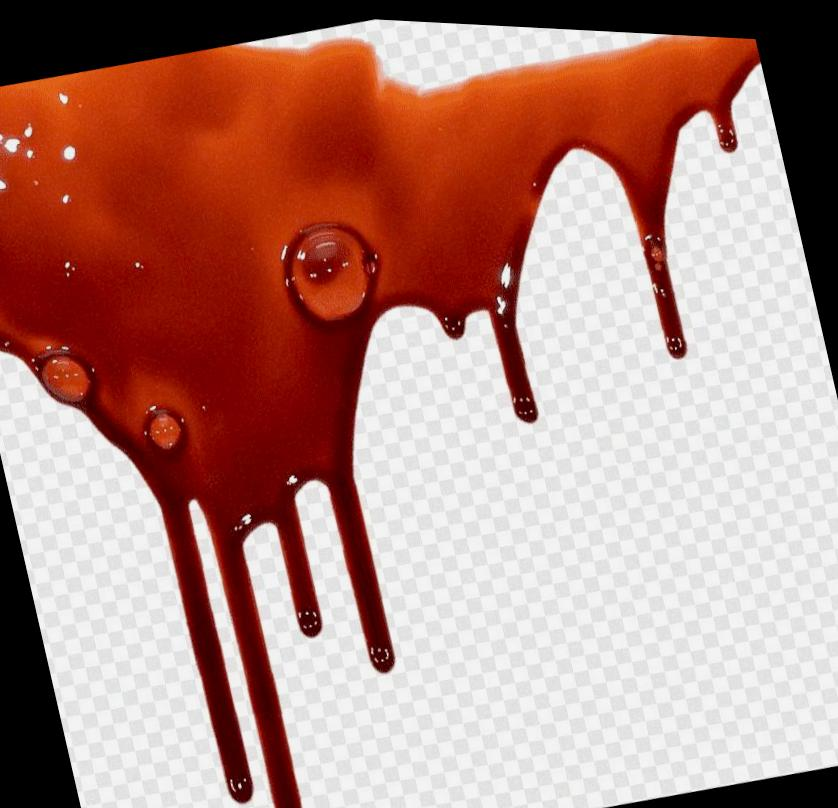Fire: (0, 27, 761, 808)
